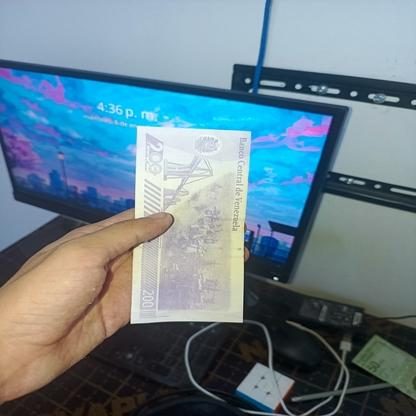two_hundred-back-vef: (128, 125, 252, 324)
